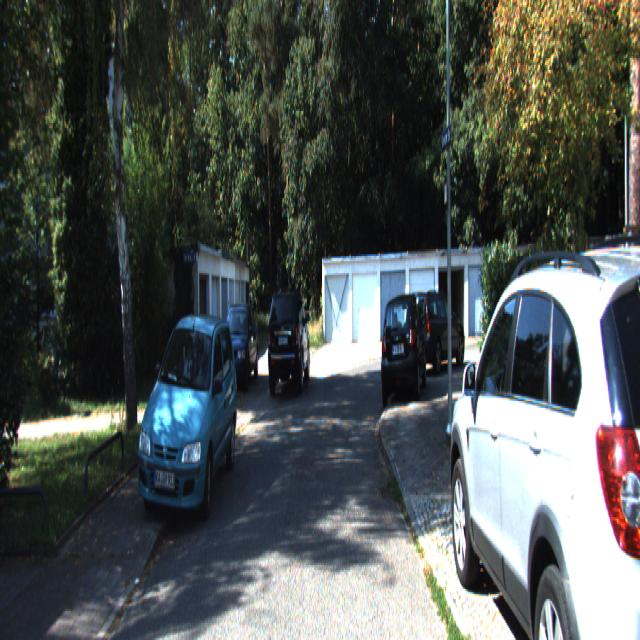Car: (445, 212, 639, 638), (137, 309, 238, 523), (404, 284, 465, 374), (381, 290, 426, 403), (267, 286, 309, 391), (217, 302, 259, 390)
